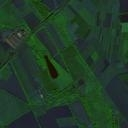alloviz: (43, 53, 59, 80)
